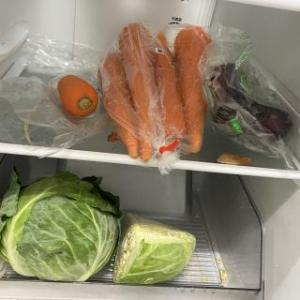cabbage: (1, 166, 123, 284), (113, 211, 198, 291)
carrot: (172, 25, 214, 154), (119, 22, 157, 162), (98, 52, 138, 160), (154, 30, 186, 142), (59, 74, 99, 118)
eggplant: (209, 60, 247, 126), (244, 102, 294, 144)
